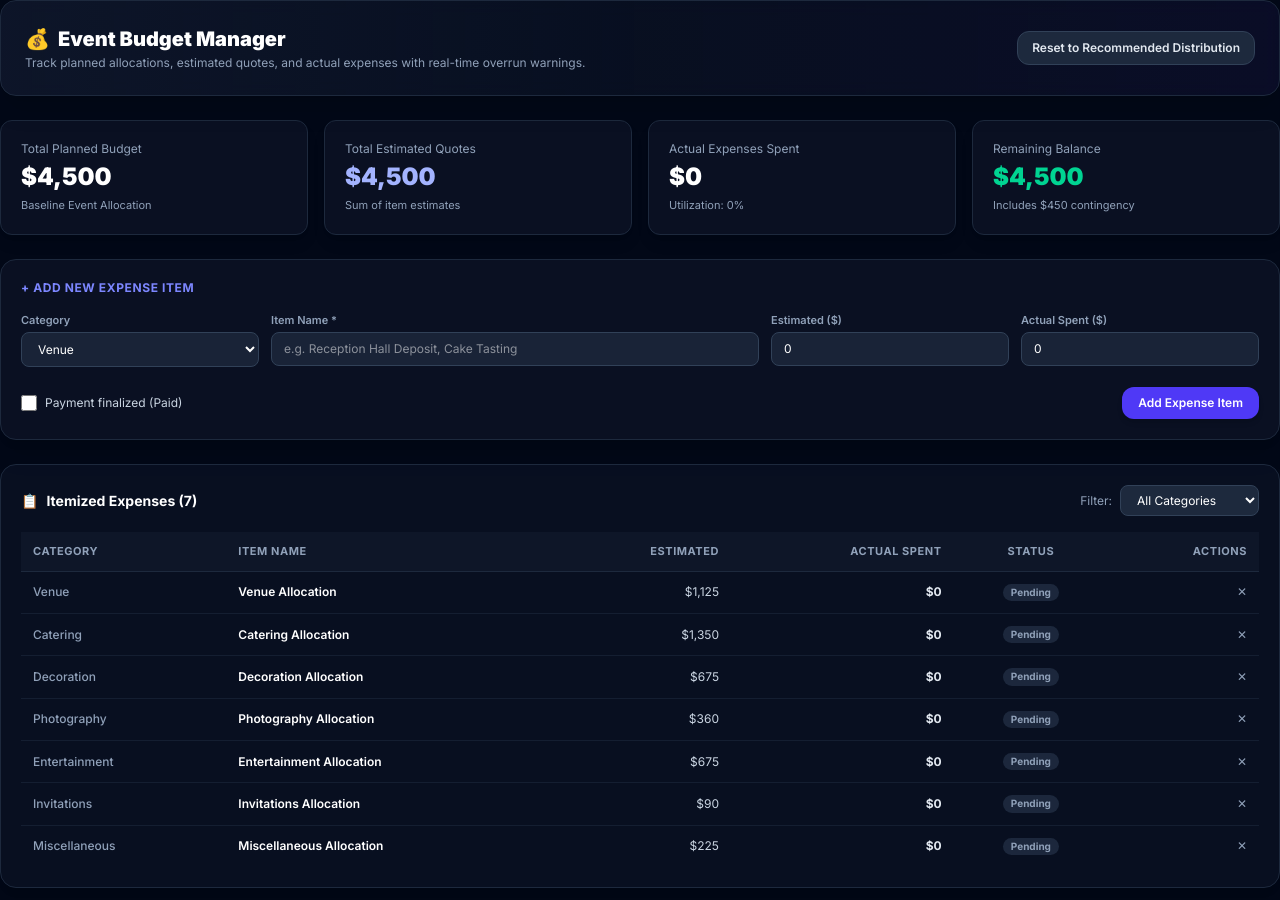
Scenario: BudgetManager — DOM Interactions › updates input fields and submits a new expense item
In the field labelled "Item Name *": (515,349) [271,332,759,366], type "Arcade Token Bundles"
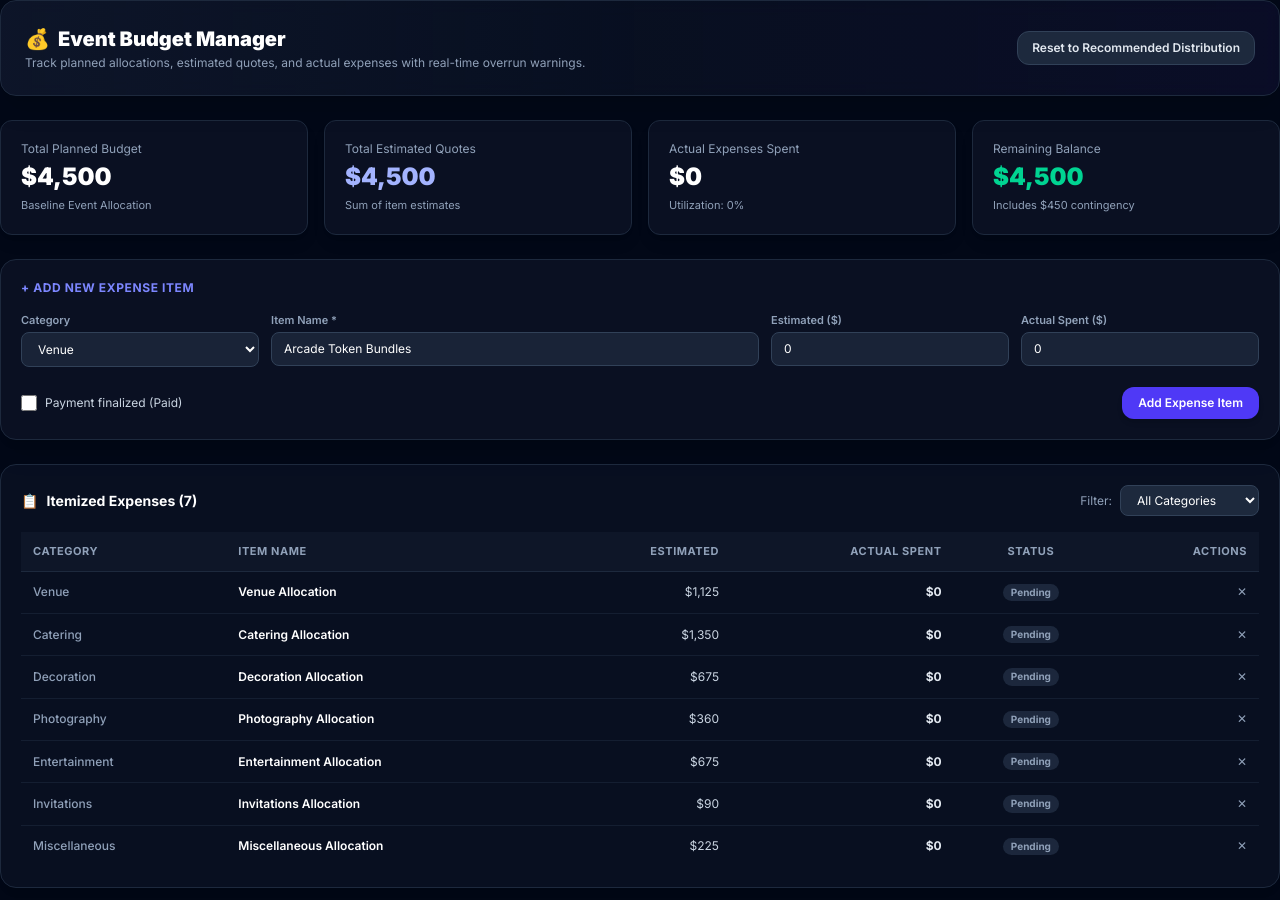
Replace the text in the number field labelled "Estimated ($)" with "350": (890,349) [771,332,1009,366]
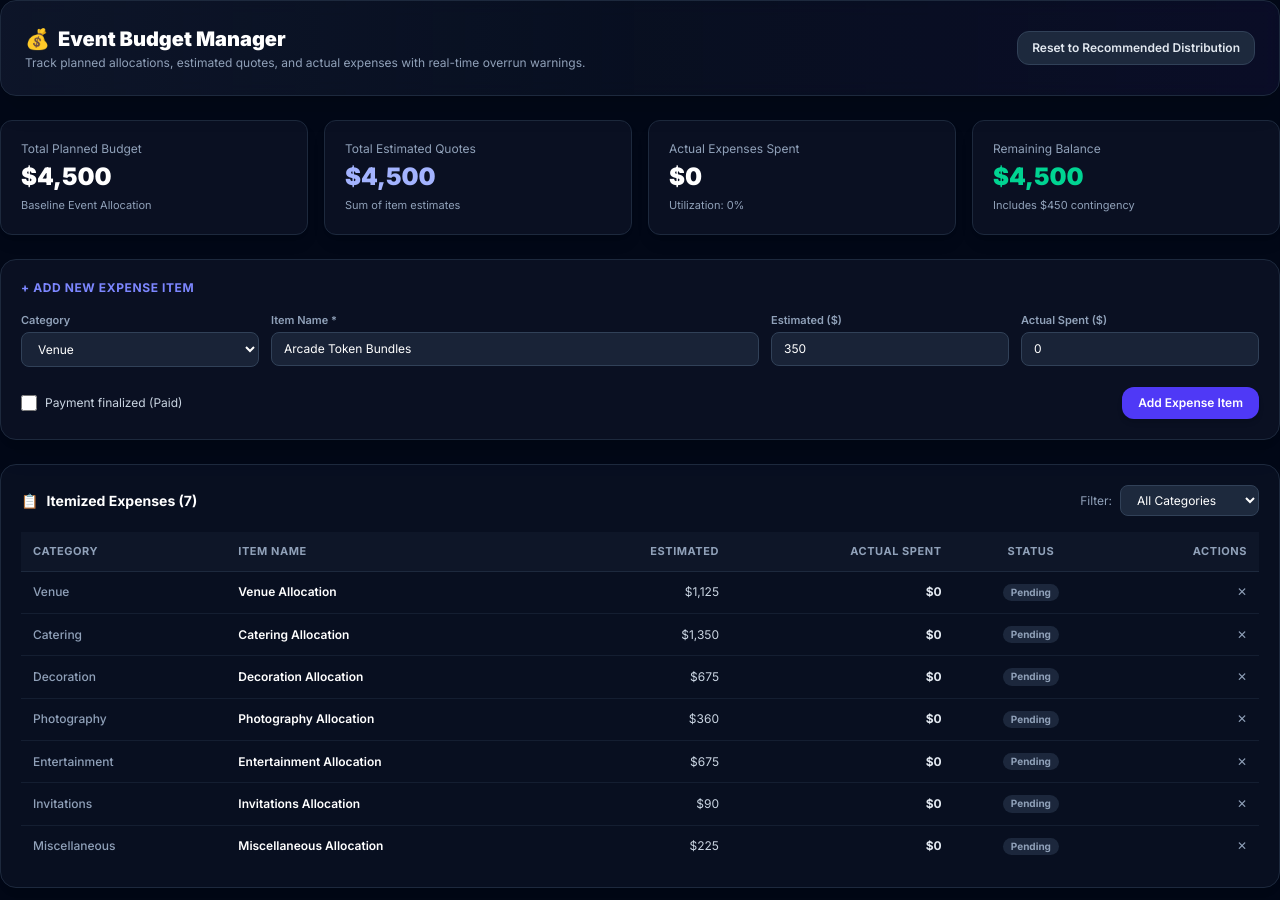
Replace the text in the number field labelled "Actual Spent ($)" with "320": (1140,349) [1021,332,1259,366]
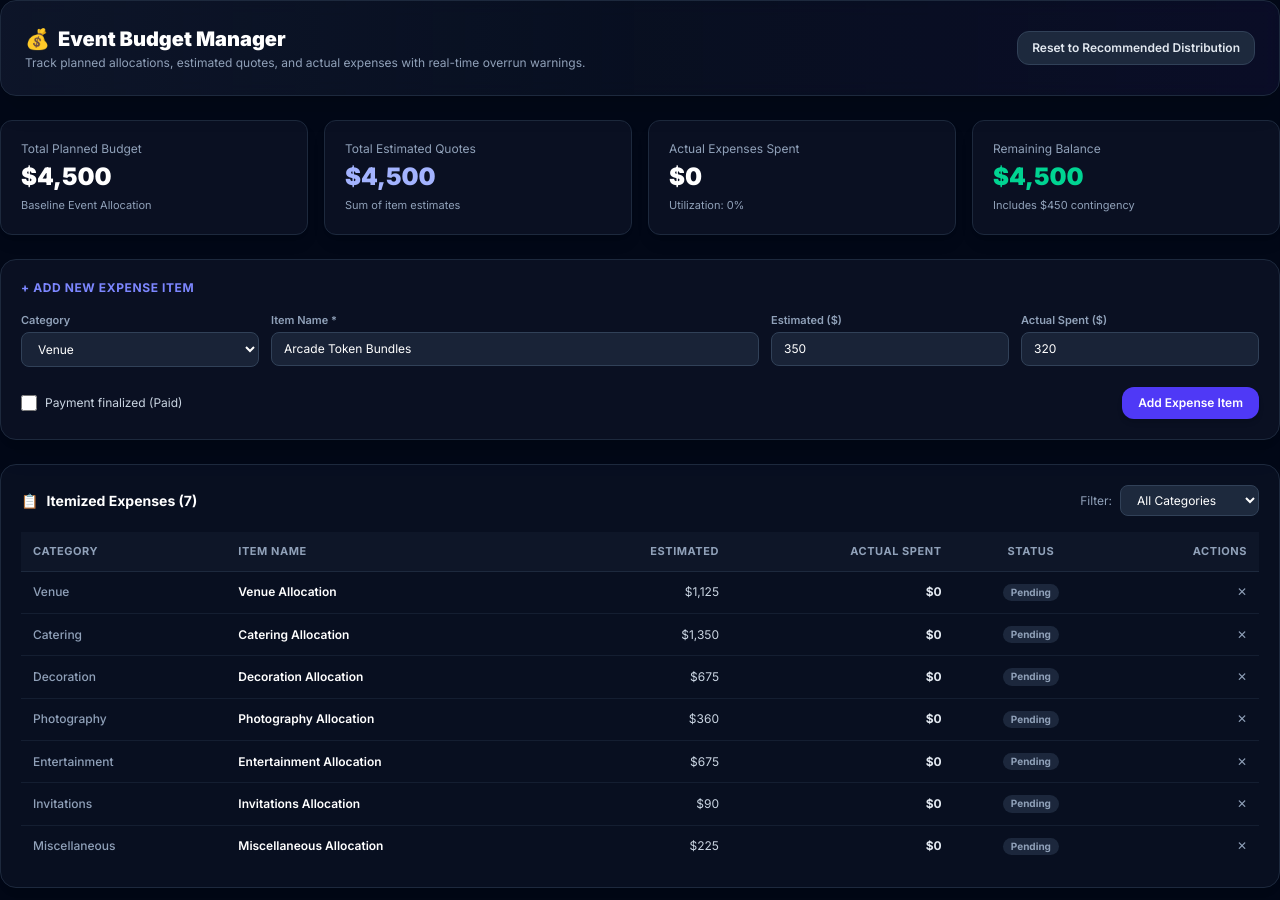
Click the button "Add Expense Item": (1191,403) [1122,387,1259,419]
(page scrolled)
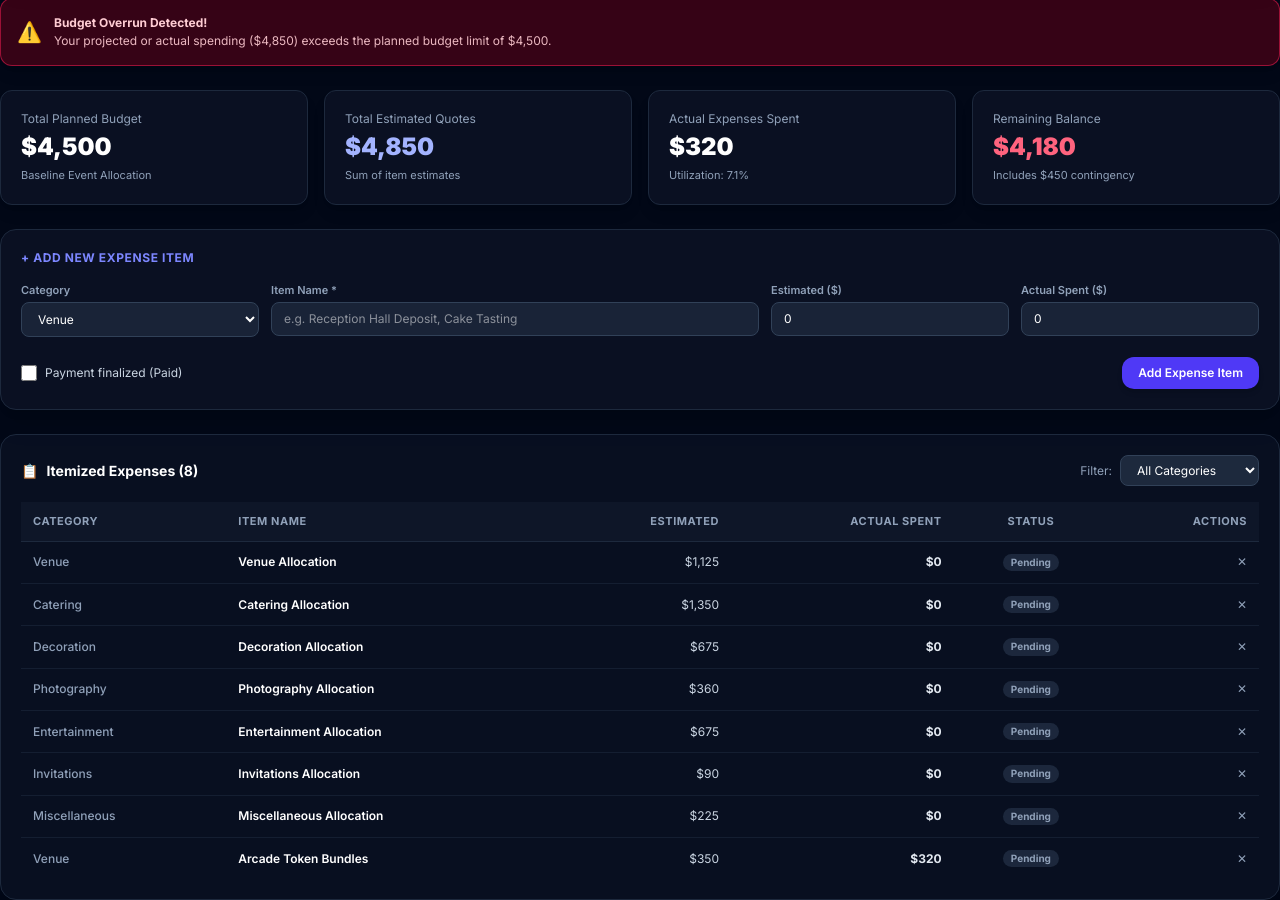
Expected: the text "Arcade Token Bundles" is shown, [226,838,552,879]
